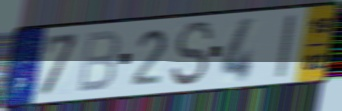2: (129, 28, 170, 88)
4: (220, 16, 255, 85)
7: (41, 30, 82, 98)
B: (75, 29, 122, 95)
I: (273, 13, 298, 81)
S: (169, 19, 215, 88)
